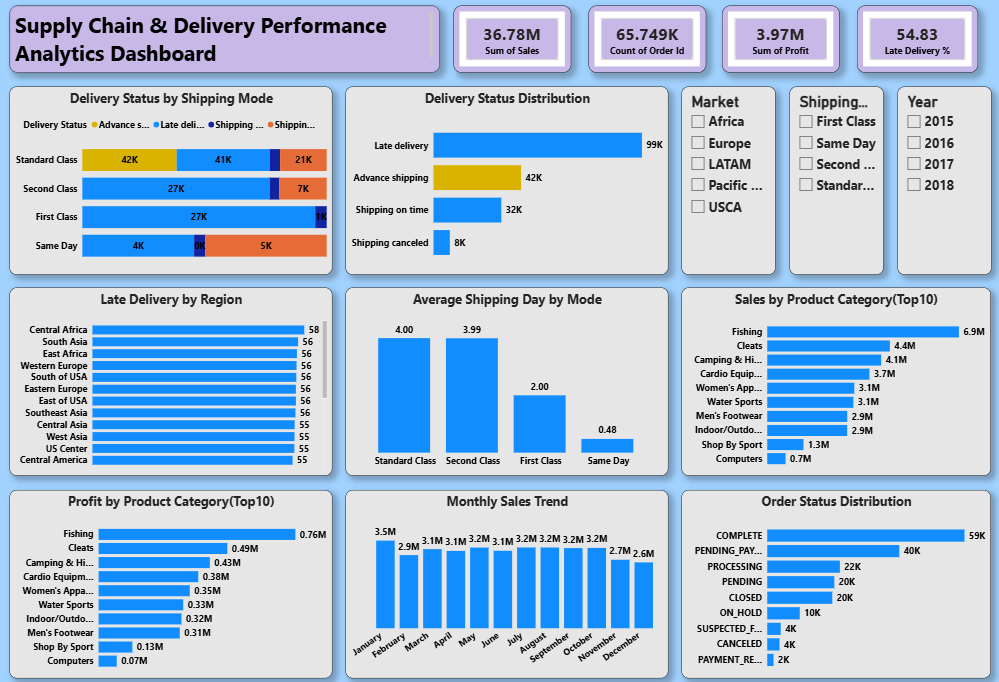

Layout of this report page (visuals, bound fields, positions):
{"tool":"powerbi","page":{"name":"Delivery & Shipping Performance","canvas":[1800,1233],"ordinal":0},"visuals":[{"type":"cardVisual","fields":{"Data":["Count(Supply.Order Id)"]},"box":[1056,24,210,120],"z":0},{"type":"cardVisual","fields":{"Data":["Sum(Supply.Sales)"]},"box":[816,24,210,120],"z":1000},{"type":"cardVisual","fields":{"Data":["Sum(Supply.Order Profit Per Order)"]},"box":[1296,24,210,120],"z":2000},{"type":"cardVisual","fields":{"Data":["Supply.Late Delivery %"]},"box":[1536,24,216,120],"z":3000},{"type":"clusteredBarChart","title":"Delivery Status Distribution","fields":{"Category":["Supply.Delivery Status"],"Y":["CountNonNull(Supply.Order Id)"]},"box":[624,168,576,336],"z":4000},{"type":"hundredPercentStackedBarChart","title":"Delivery Status by Shipping Mode","fields":{"Category":["Supply.Shipping Mode"],"Y":["CountNonNull(Supply.Order Id)"],"Series":["Supply.Delivery Status"]},"box":[24,168,576,336],"z":5000},{"type":"clusteredColumnChart","title":"Average Shipping Day by Mode","fields":{"Y":["Avg(Supply.Days for shipping (real))"],"Category":["Supply.Shipping Mode"]},"box":[624,528,576,336],"z":6000},{"type":"clusteredBarChart","title":"Late Delivery by Region","fields":{"Y":["Supply.Late Delivery %"],"Category":["Supply.Order Region"]},"box":[24,528,576,336],"z":7000},{"type":"textbox","box":[24,24,768,120],"z":8000},{"type":"slicer","fields":{"Values":["Supply.order date (DateOrders).Variation.Date Hierarchy.Year"]},"box":[1608,168,168,336],"z":9000},{"type":"slicer","fields":{"Values":["Supply.Market"]},"box":[1224,168,168,336],"z":10000},{"type":"slicer","fields":{"Values":["Supply.Shipping Mode"]},"box":[1416,168,168,336],"z":11000},{"type":"clusteredBarChart","title":"Sales by Product Category(Top10)","fields":{"Y":["Sum(Supply.Sales)"],"Category":["Supply.Category Name"]},"box":[1224,528,552,336],"z":11001},{"type":"clusteredBarChart","title":"Profit by Product Category(Top10)","fields":{"Category":["Supply.Category Name"],"Y":["Sum(Supply.Order Profit Per Order)"]},"box":[24,888,576,336],"z":11002},{"type":"clusteredColumnChart","title":"Monthly Sales Trend","fields":{"Category":["Supply.order date (DateOrders).Variation.Date Hierarchy.Month"],"Y":["Sum(Supply.Sales)"]},"box":[624,888,576,336],"z":11003},{"type":"clusteredBarChart","title":"Order Status Distribution","fields":{"Category":["Supply.Order Status"],"Y":["CountNonNull(Supply.Order Id)"]},"box":[1224,888,552,336],"z":11004}]}

Visuals, with their boxes in screenshot pixels (x1, y1, x2, y2), scaled from the page's 1800x1233 canvas onto the 999x682 screenshot:
cardVisual - Count(Supply.Order Id): bbox=(586, 13, 703, 80)
cardVisual - Sum(Supply.Sales): bbox=(453, 13, 569, 80)
cardVisual - Sum(Supply.Order Profit Per Order): bbox=(719, 13, 836, 80)
cardVisual - Supply.Late Delivery %: bbox=(852, 13, 972, 80)
"Delivery Status Distribution" clusteredBarChart: bbox=(346, 93, 666, 279)
"Delivery Status by Shipping Mode" hundredPercentStackedBarChart: bbox=(13, 93, 333, 279)
"Average Shipping Day by Mode" clusteredColumnChart: bbox=(346, 292, 666, 478)
"Late Delivery by Region" clusteredBarChart: bbox=(13, 292, 333, 478)
textbox: bbox=(13, 13, 440, 80)
slicer - Supply.order date (DateOrders).Variation.Date Hierarchy.Year: bbox=(892, 93, 986, 279)
slicer - Supply.Market: bbox=(679, 93, 773, 279)
slicer - Supply.Shipping Mode: bbox=(786, 93, 879, 279)
"Sales by Product Category(Top10)" clusteredBarChart: bbox=(679, 292, 986, 478)
"Profit by Product Category(Top10)" clusteredBarChart: bbox=(13, 491, 333, 677)
"Monthly Sales Trend" clusteredColumnChart: bbox=(346, 491, 666, 677)
"Order Status Distribution" clusteredBarChart: bbox=(679, 491, 986, 677)
